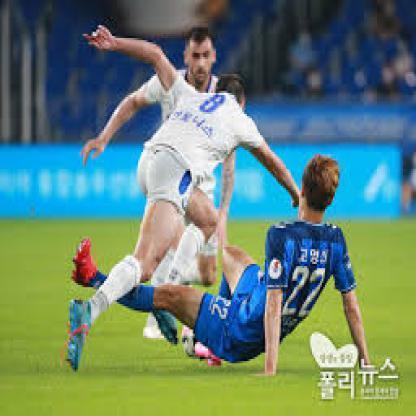Fall_Down: (69, 154, 375, 383)
